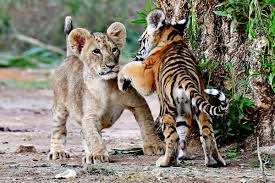lion: (41, 13, 141, 161)
tiger: (140, 7, 229, 162)
